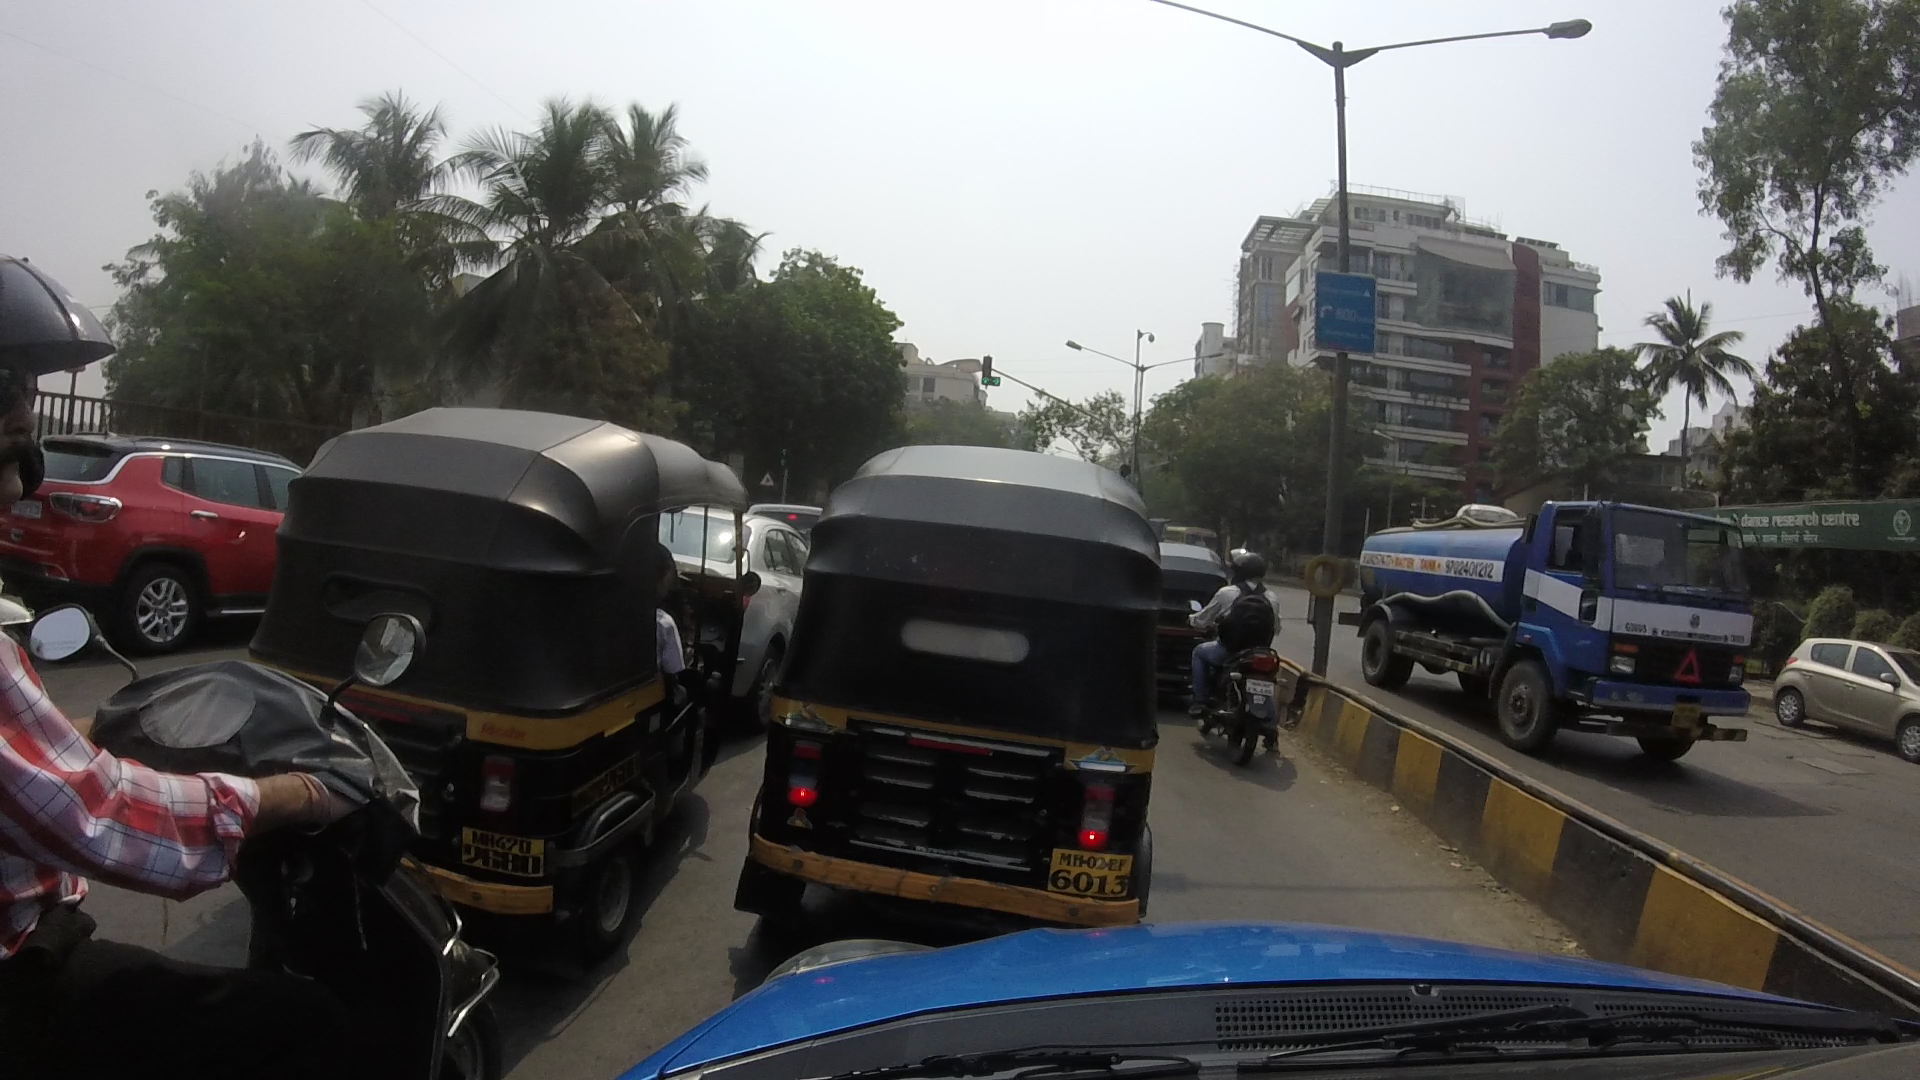bike/scooter: (8, 574, 495, 1080), (1175, 554, 1290, 771)
car: (16, 425, 281, 651), (687, 513, 828, 692), (1772, 626, 1920, 771)
rickshaw: (269, 404, 716, 934), (740, 426, 1163, 938)
truck: (1331, 489, 1743, 777)
